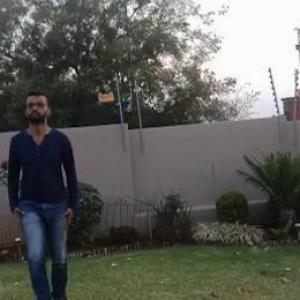follow: (5, 80, 94, 298)
